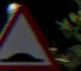Speed Breaker ahead: (0, 3, 55, 70)
